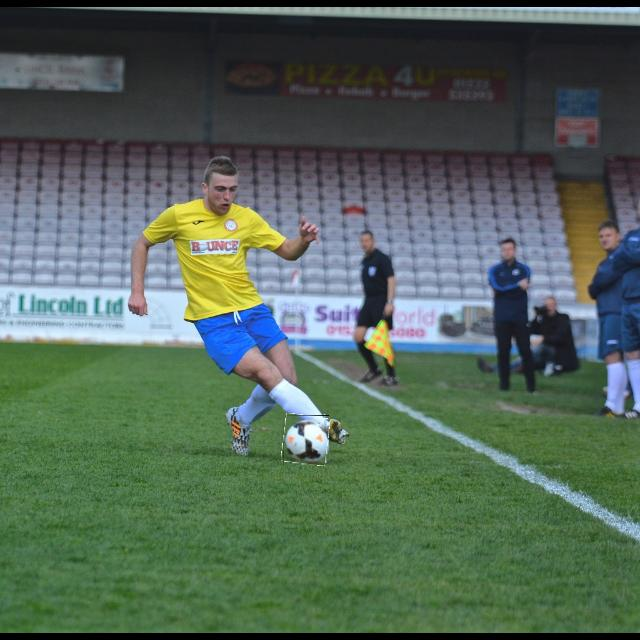Football: (283, 415, 329, 465)
